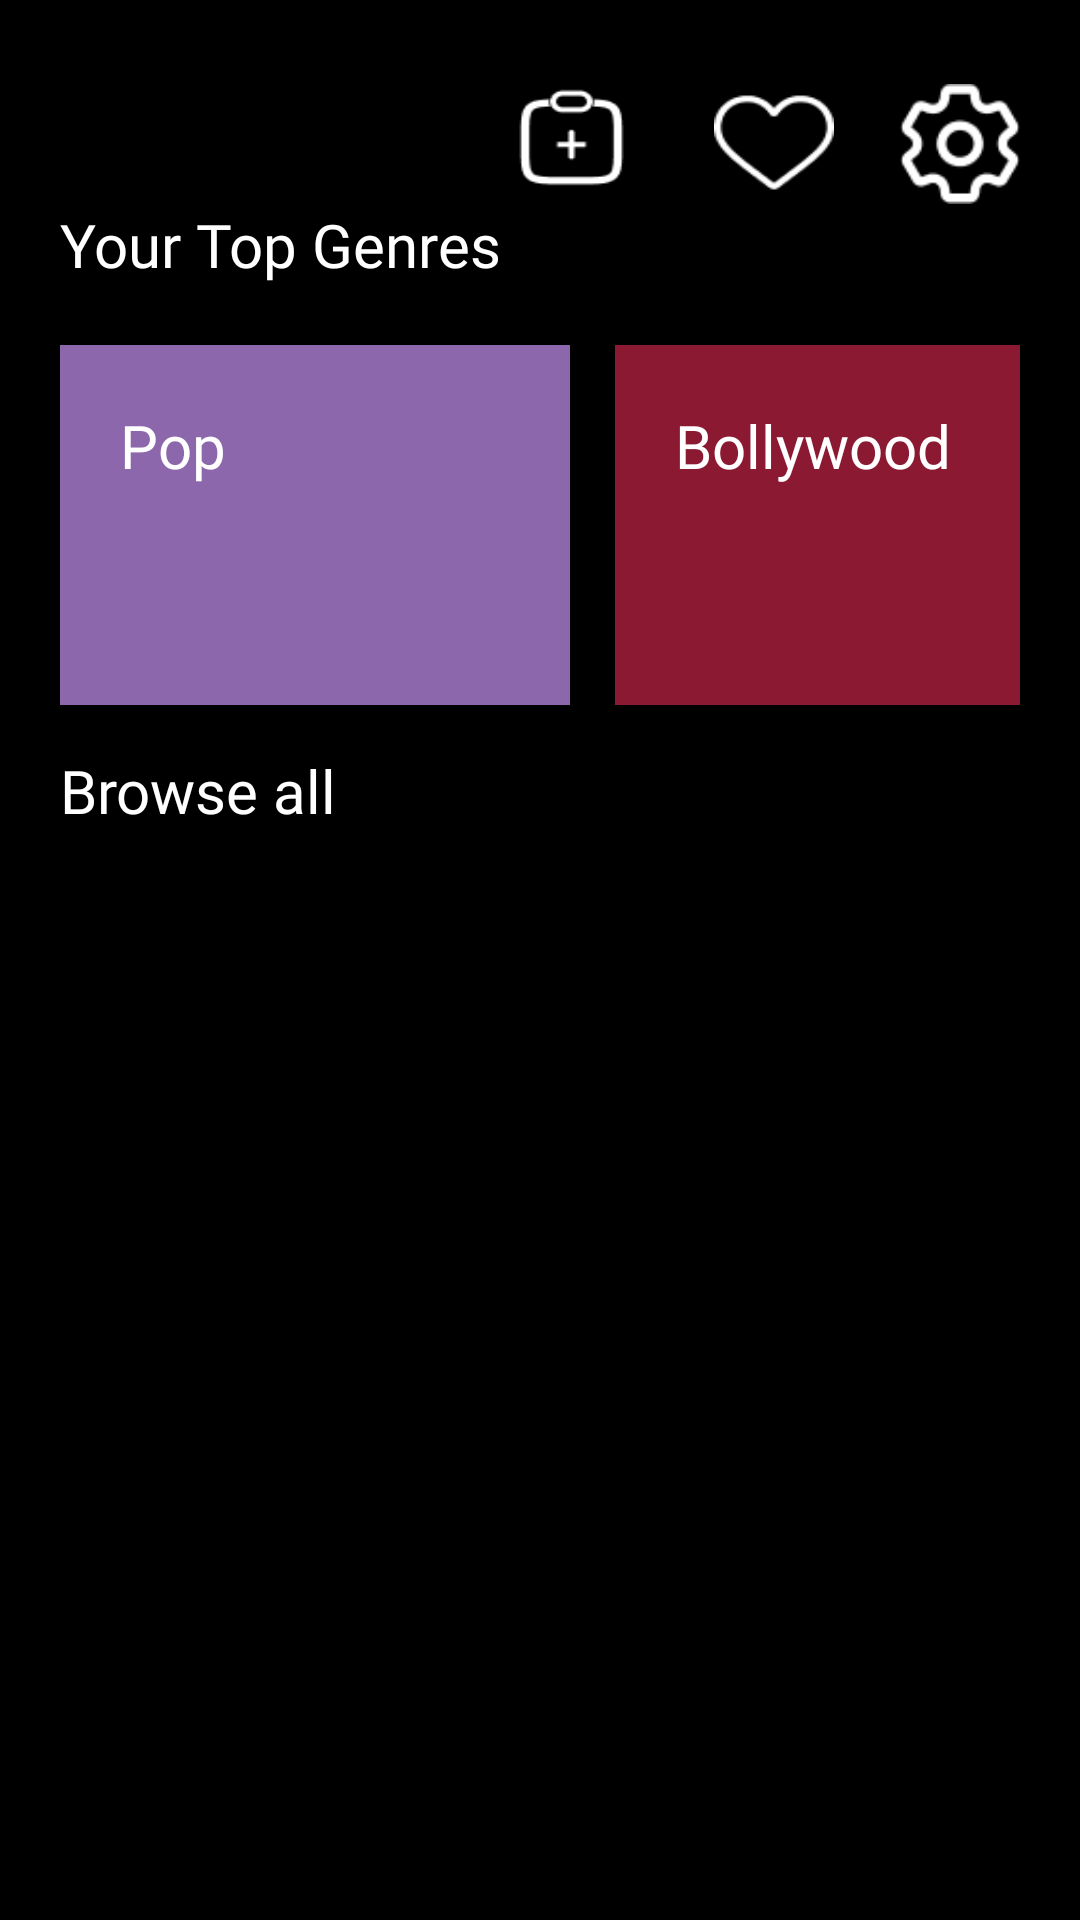

Icons on this 1080 × 1920 Android screen, each with its box as detection(x1, y1, x2, y2):
heart: detection(714, 95, 834, 190)
settings: detection(900, 84, 1020, 204)
